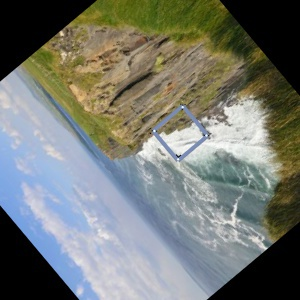square: (148, 102, 213, 164)
